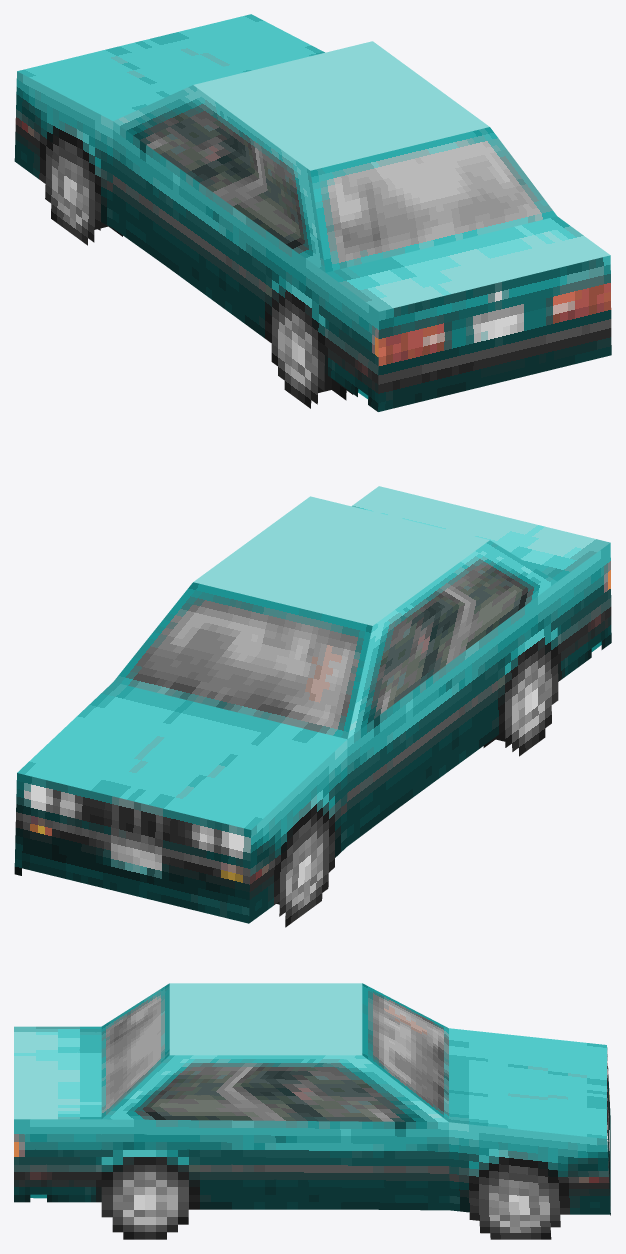
Rendered from car-bmw.glb.
The picture shows the model from 3 angles, top to bottom: view 1: azimuth 30°, elevation 25°; view 2: azimuth 150°, elevation 25°; view 3: azimuth 270°, elevation 25°; orthographic projection. The views are drawn at different scales.
Visible parts, largest first — view 1: car-bmw; view 2: car-bmw; view 3: car-bmw.
Part boxes in pixels (x1,y1,x2,y2): car-bmw: [14, 14, 611, 411]; car-bmw: [14, 486, 611, 927]; car-bmw: [14, 983, 610, 1239].
Bounding box in the file's own units: 1.41 × 1.21 × 3.78.
15 materials, 15 textured.
